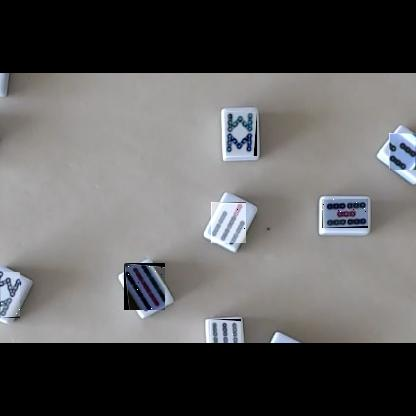3s: (389, 133, 416, 170)
5s: (322, 199, 368, 228)
7s: (211, 202, 246, 243), (210, 319, 241, 343)
8s: (226, 111, 257, 156), (0, 272, 20, 318)
9s: (124, 263, 165, 310)
